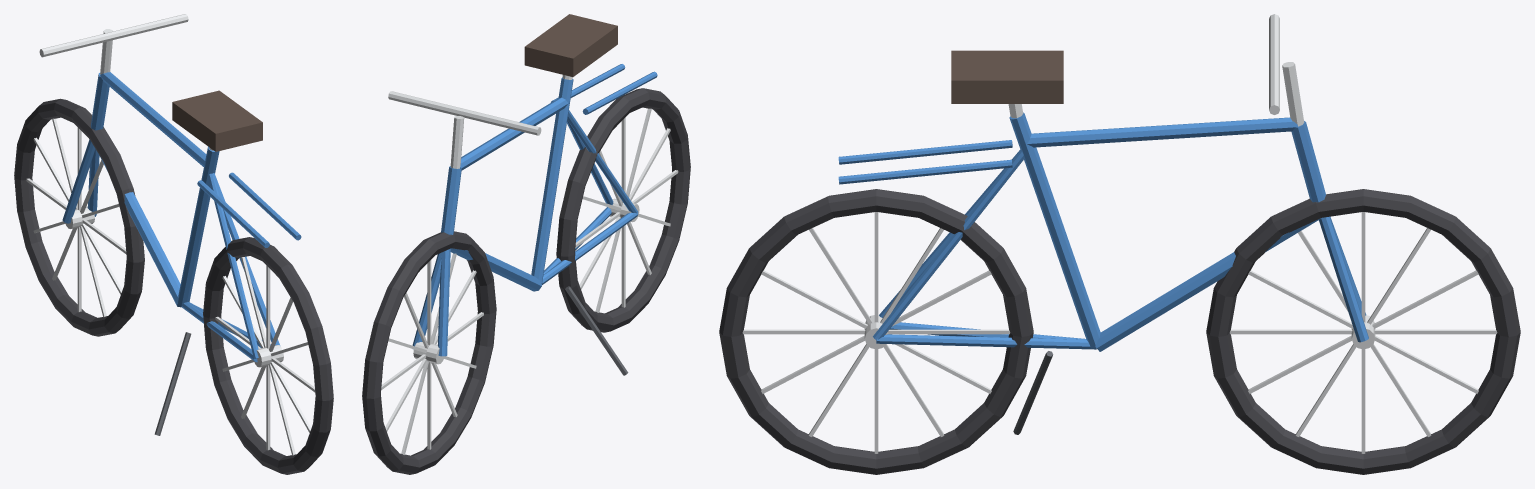
Rendered from Prop_Cycle_Blue.glb.
3 views of the same model, side by side, from view 1: azimuth 30°, elevation 25°; view 2: azimuth 150°, elevation 25°; view 3: azimuth 270°, elevation 25° (orthographic). The views are drawn at different scales.
Parts seen in each view (by area): view 1: RearW_Tire, FrontW_Tire, RearW_Rim, Saddle, FrontW_Rim, Tube0, Tube2, Tube1, Bar, Tube7, Tube6, Tube9 (+7 smaller); view 2: FrontW_Tire, RearW_Tire, Saddle, FrontW_Rim, RearW_Rim, Tube0, Bar, Tube2, Tube9, Tube1, Tube5, Tube3 (+8 smaller); view 3: RearW_Tire, FrontW_Tire, RearW_Rim, FrontW_Rim, Saddle, Tube2, Tube0, Tube1, Tube6, Tube4, Tube8, Tube10 (+4 smaller).
Part boxes in pixels (x1,y1,x2,y2): RearW_Tire: (203, 237, 333, 474); FrontW_Tire: (14, 98, 144, 336); RearW_Rim: (215, 257, 315, 455); Saddle: (172, 90, 262, 151); FrontW_Rim: (26, 118, 126, 317); Tube0: (178, 146, 219, 306); Tube2: (100, 72, 206, 166); Tube1: (100, 156, 180, 307); Bar: (39, 14, 188, 57); Tube7: (208, 173, 258, 358); Tube6: (210, 173, 280, 345); Tube9: (62, 139, 95, 223); FrontW_Tire: (362, 231, 496, 474); RearW_Tire: (556, 88, 690, 332); Saddle: (524, 14, 617, 76); FrontW_Rim: (381, 253, 483, 454); RearW_Rim: (575, 108, 678, 312); Tube0: (531, 77, 573, 283); Bar: (388, 91, 541, 135); Tube2: (460, 97, 568, 170); Tube9: (438, 248, 450, 356); Tube1: (450, 248, 541, 291); Tube5: (542, 212, 638, 284); Tube3: (441, 166, 461, 234); RearW_Tire: (719, 189, 1033, 474); FrontW_Tire: (1206, 189, 1520, 474); RearW_Rim: (742, 212, 1010, 453); FrontW_Rim: (1229, 212, 1497, 453); Saddle: (951, 50, 1063, 103); Tube2: (1027, 117, 1297, 147); Tube0: (1009, 112, 1100, 348); Tube1: (1095, 218, 1320, 351); Tube6: (873, 150, 1024, 340); Tube4: (876, 334, 1096, 349); Tube8: (1319, 216, 1368, 342); Tube10: (838, 159, 1012, 184).
Size of the model in its own units: 0.46 by 0.978 by 1.71.
